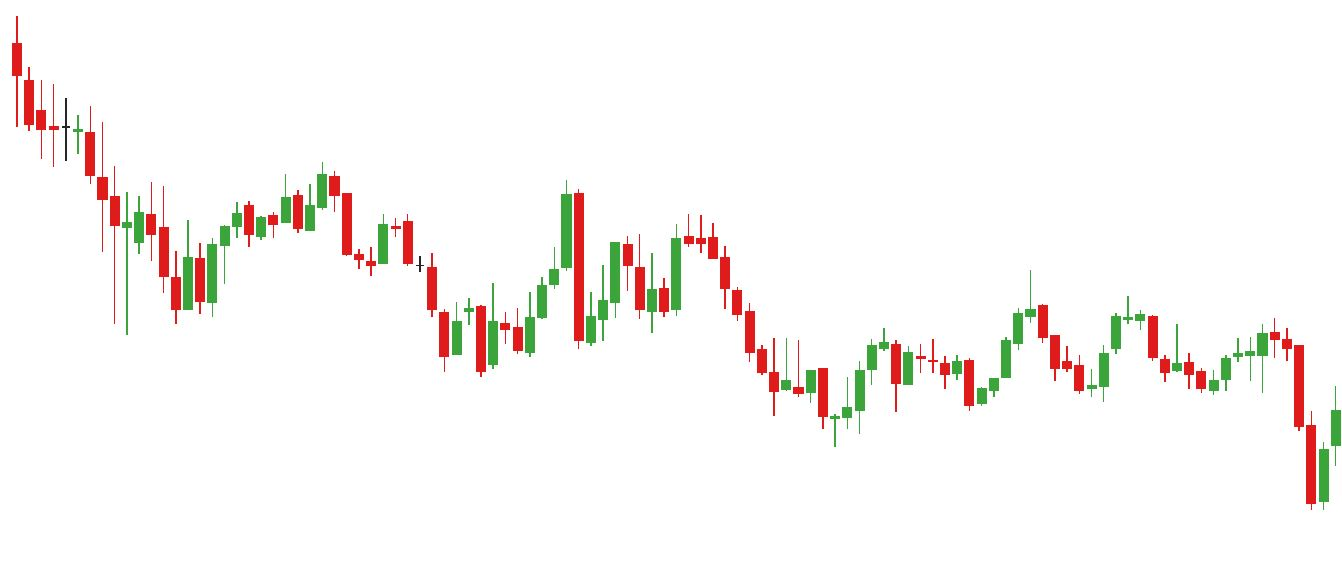sell: (376, 176, 588, 304), (608, 208, 706, 296), (1171, 312, 1292, 381)
